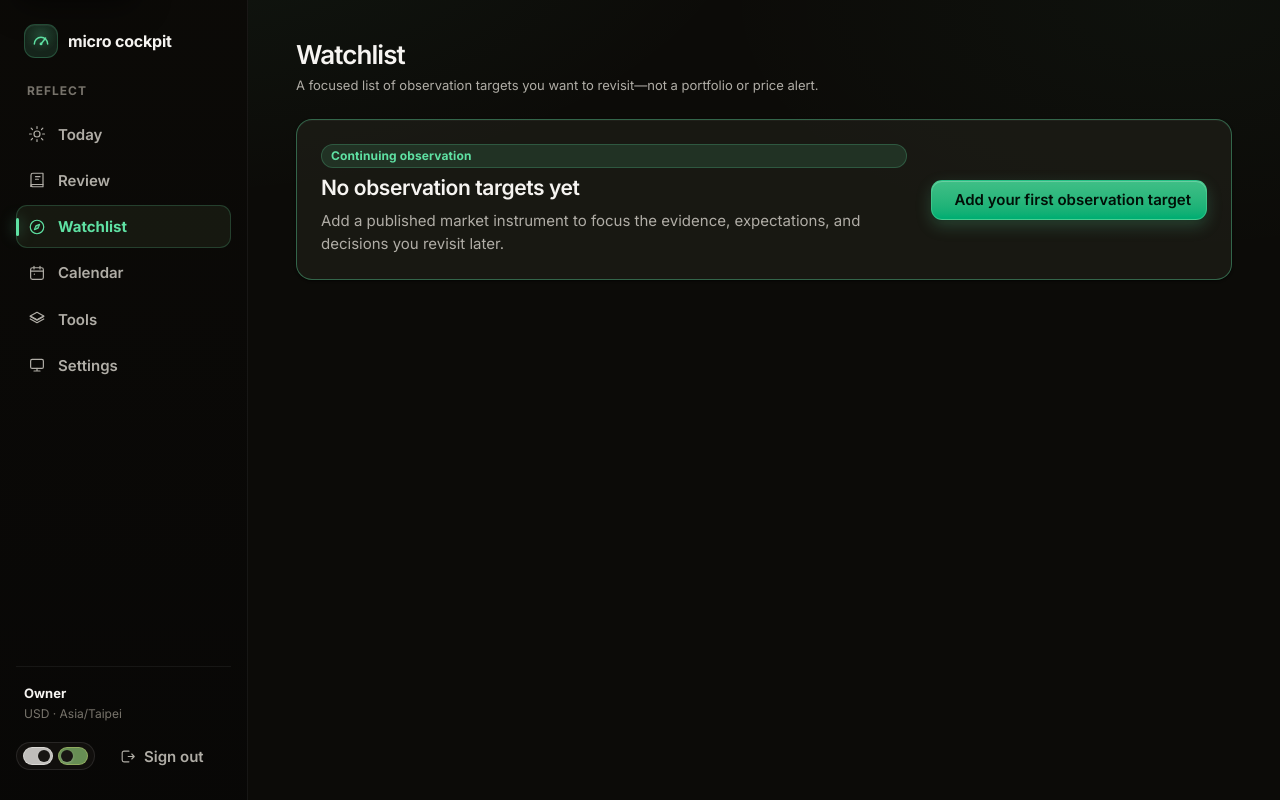
empty watchlist explains its purpose and the next step
The width and height of the screenshot is (1280, 800).
Expected: the heading "No observation targets yet" is shown, x1=321 y1=176 x2=580 y2=200
Expected: the text "A focused list of observation targets you want to revisit—not a portfolio or price alert." is shown, x1=296 y1=77 x2=819 y2=93
What coordinates should you click on to do the following:
click the button "Add your first observation target"
I would click on:
 (1069, 200)
Its box is x1=930 y1=180 x2=1207 y2=220.
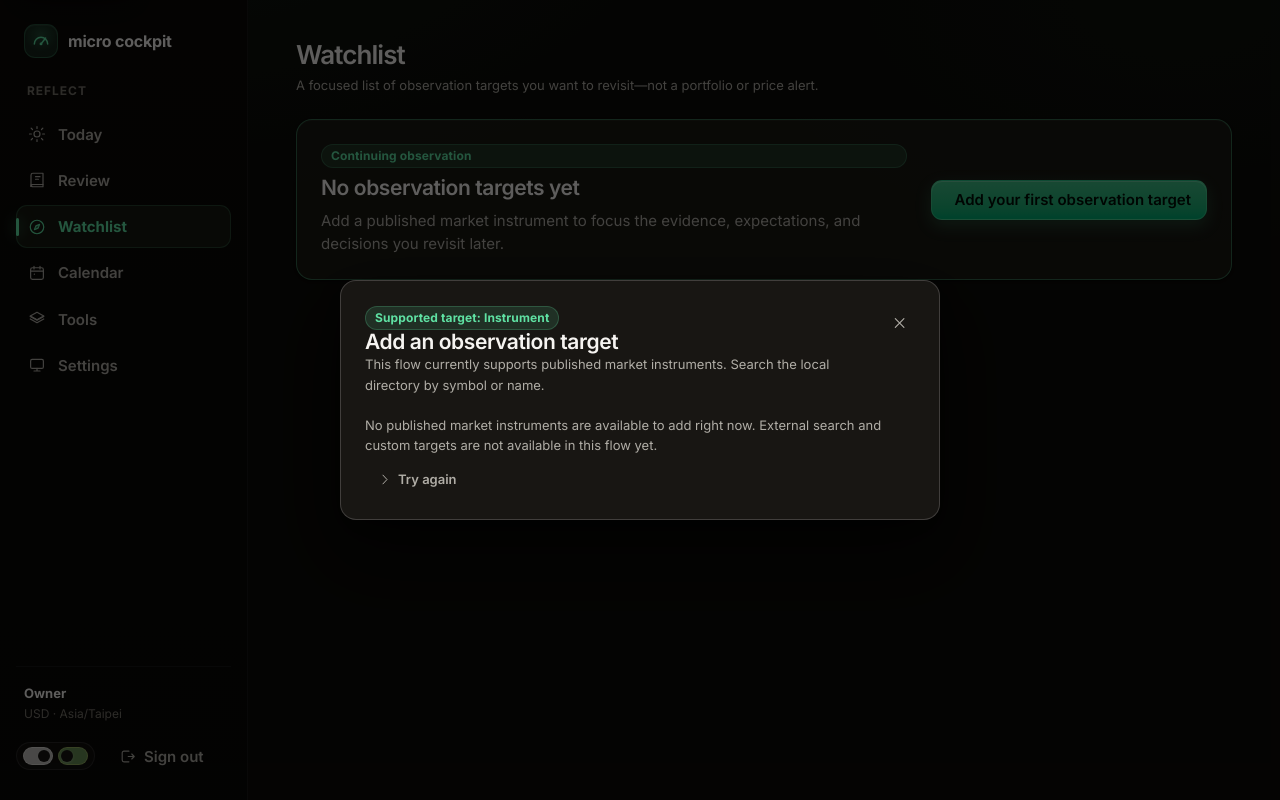
Expected: the heading "Add an observation target" is shown, x1=365 y1=329 x2=618 y2=354
Expected: the text "No published market instruments are available" is shown, x1=365 y1=417 x2=881 y2=453
